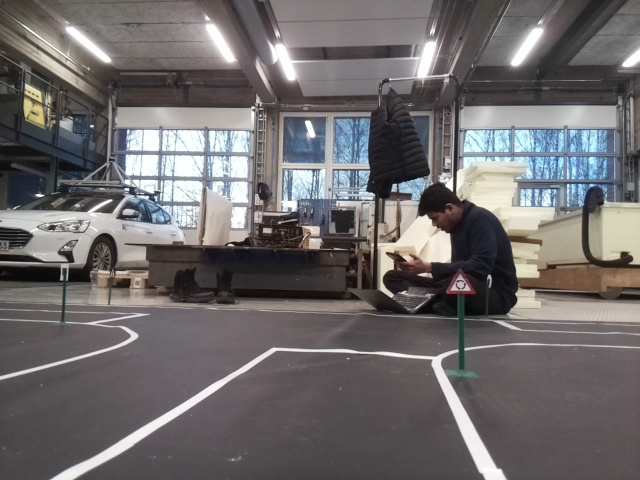Roundabout: (444, 268, 477, 294)
